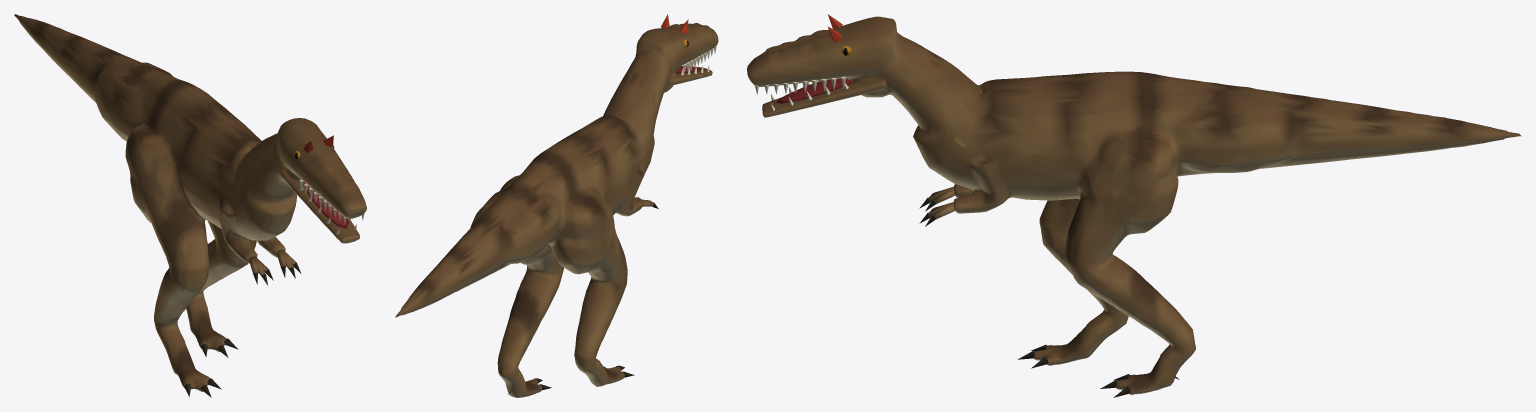
The model's file is Allosaurus.fbx.
3 renders of one model, left to right at view 1: azimuth 30°, elevation 25°; view 2: azimuth 150°, elevation 25°; view 3: azimuth 270°, elevation 25°, orthographic. The views are drawn at different scales.
Parts seen in each view (by area): view 1: Allosaurus; view 2: Allosaurus; view 3: Allosaurus.
Part boxes in pixels (x1,y1,x2,y2): Allosaurus: (14,14,366,397); Allosaurus: (395,14,718,397); Allosaurus: (747,14,1521,397).
Bounding box in the file's own units: 0.5456 × 1.48 × 2.93.
